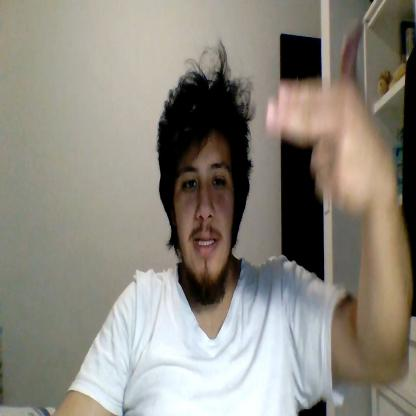H: (266, 19, 380, 213)
